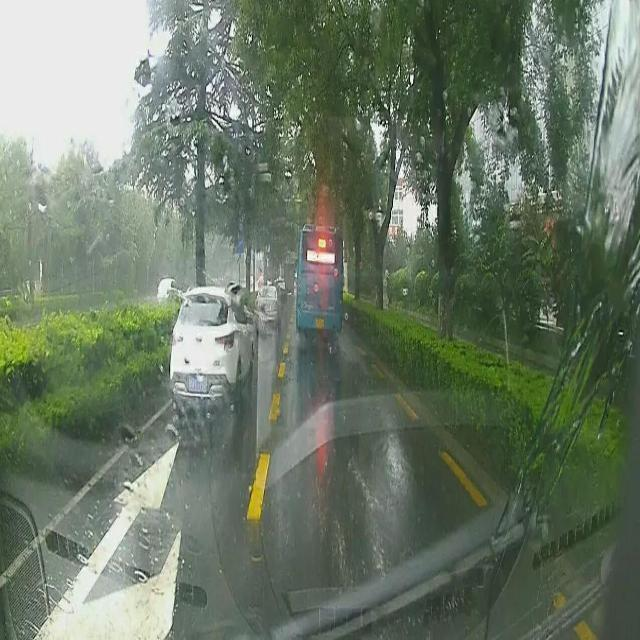car: (172, 281, 256, 415), (252, 281, 282, 331), (158, 275, 176, 307)
